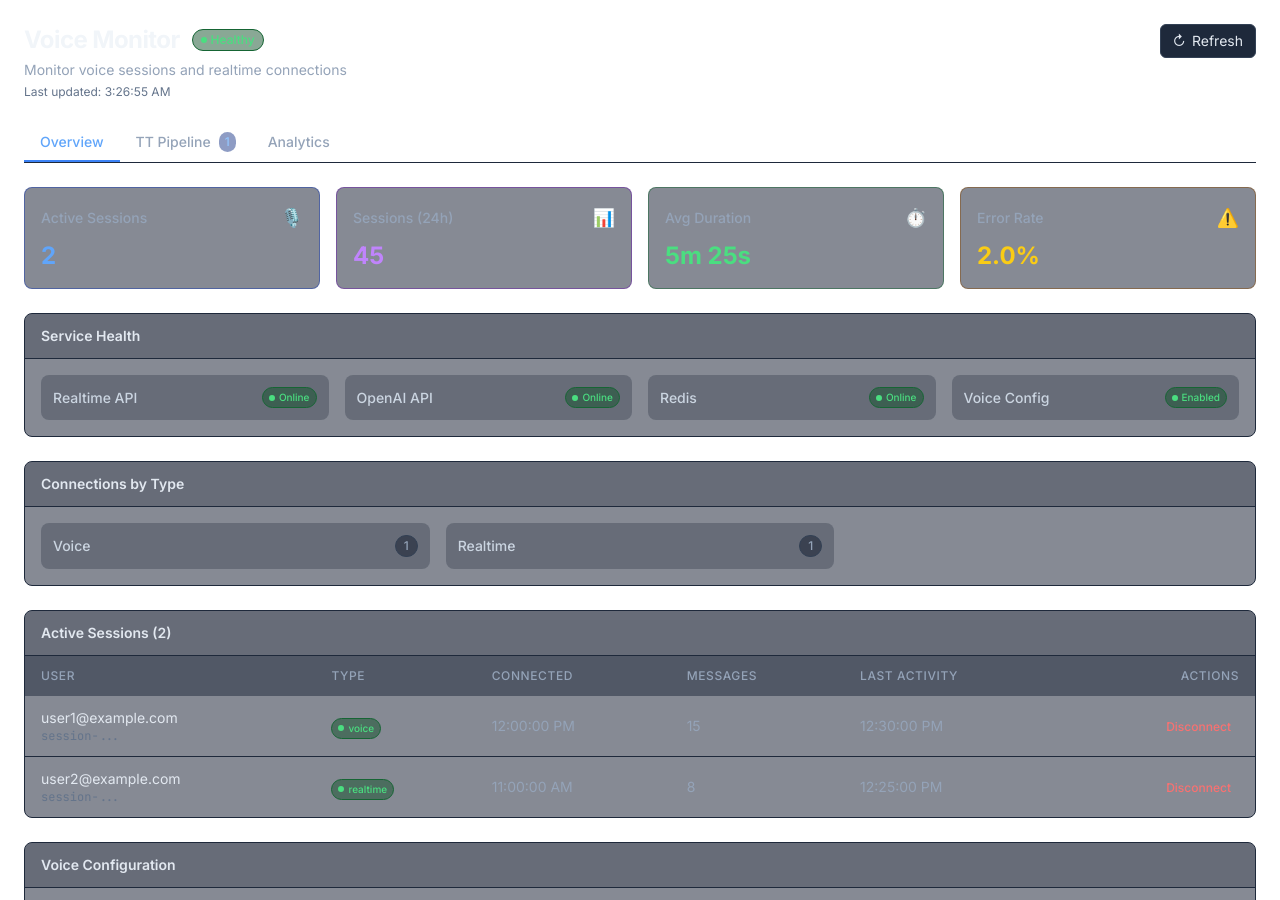
Test case: VoiceMonitorPage › TT Pipeline tab › should switch to TT Pipeline tab
This screenshot has width=1280, height=900.
Click the button "TT Pipeline 1" at (186,143), box [120,124,252,162]
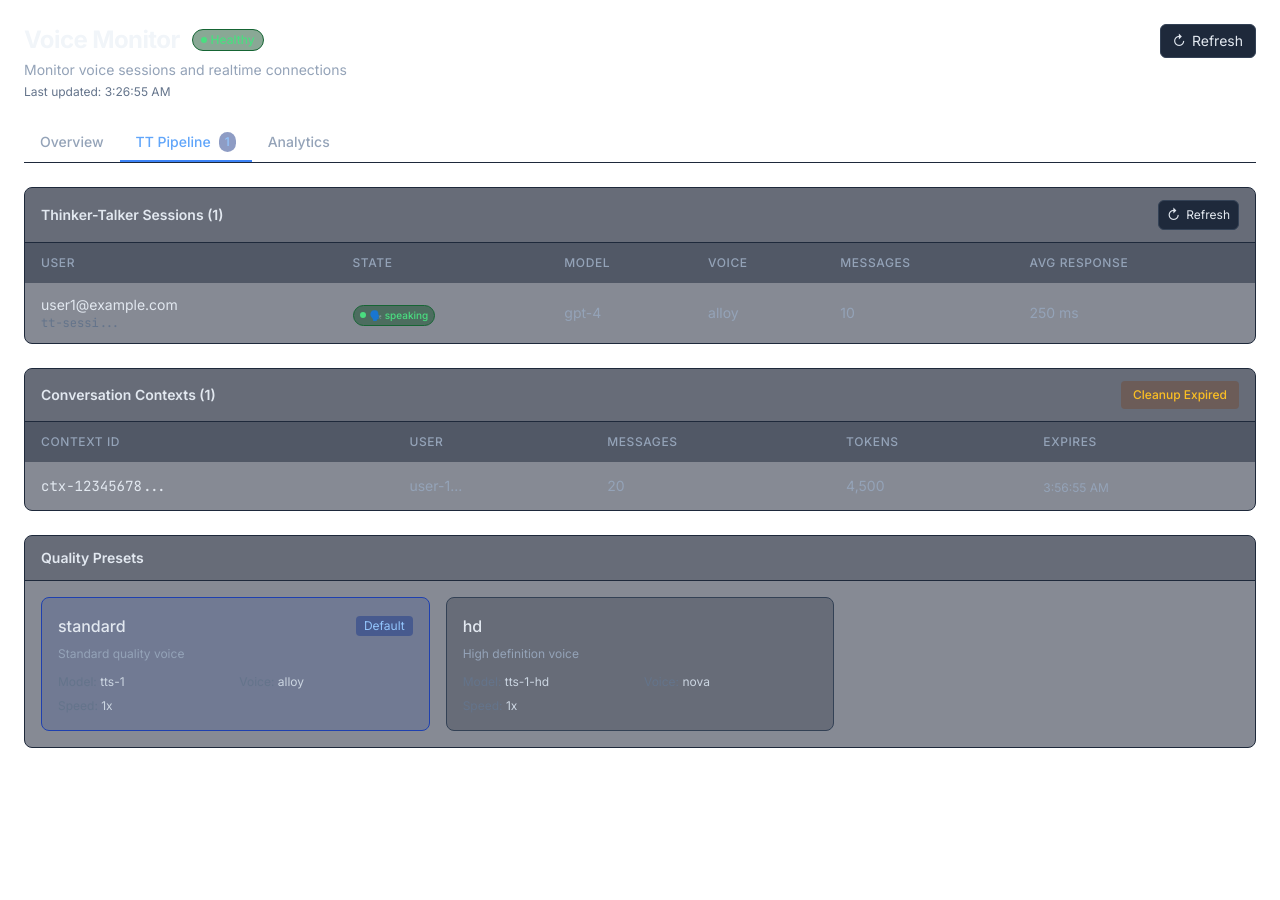
Expected: the heading "Thinker-Talker Sessions (1)" is shown, [41,205,224,225]
